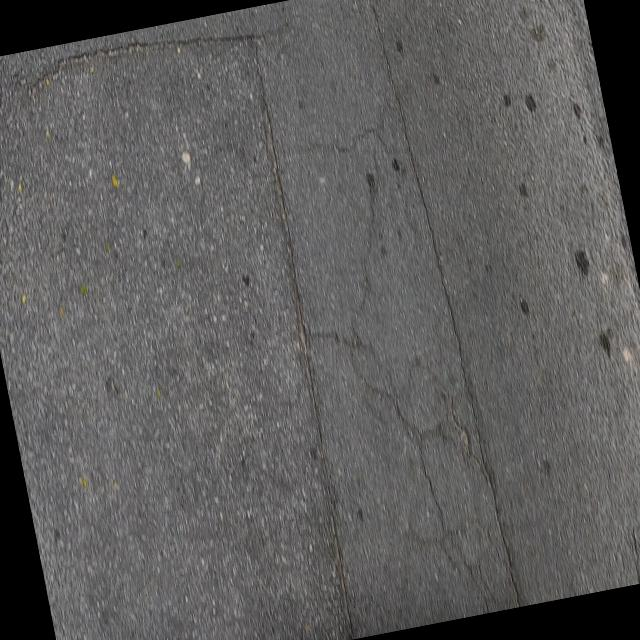Retak-Melintang: (24, 28, 268, 101)
Retak-Memanjang: (373, 17, 525, 608), (250, 56, 355, 640)
